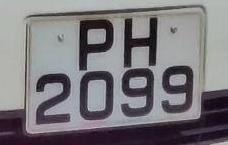0: (74, 65, 124, 124)
2: (30, 64, 77, 131)
9: (114, 63, 163, 123), (156, 61, 196, 117)
H: (115, 11, 166, 70)
P: (68, 14, 125, 74)
